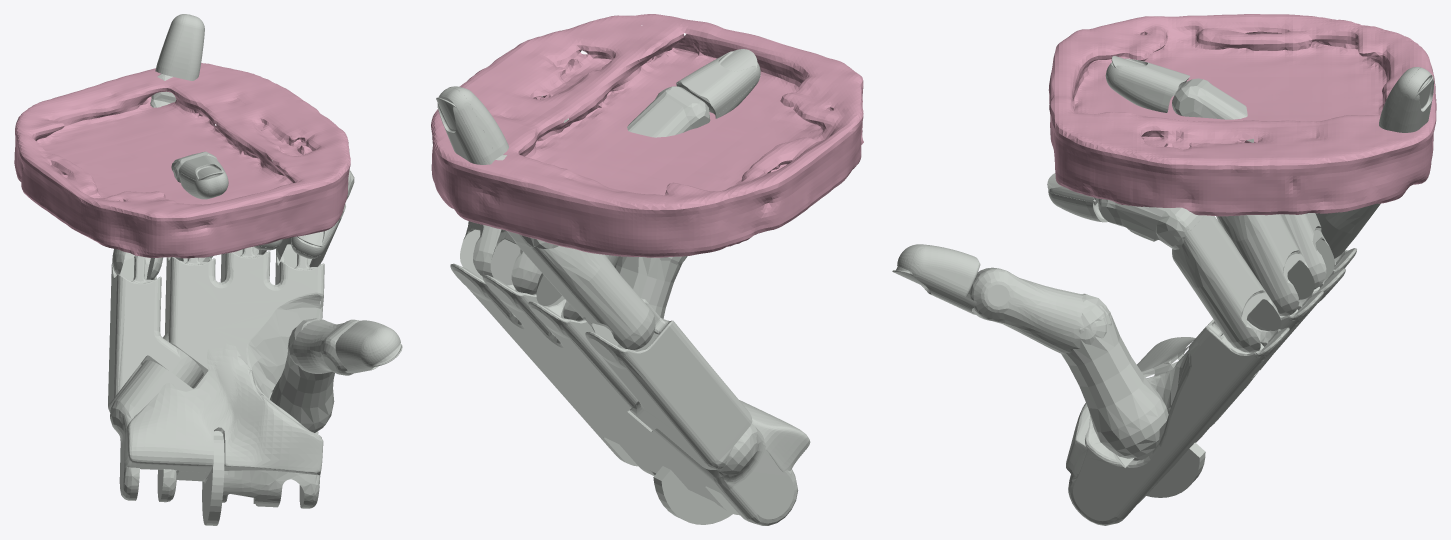
3 renders of one model, left to right at view 1: azimuth 30°, elevation 25°; view 2: azimuth 150°, elevation 25°; view 3: azimuth 270°, elevation 25°, orthographic. The views are drawn at different scales.
Visible parts, largest first — view 1: hand, world; view 2: world, hand; view 3: hand, world.
Part boxes in pixels (x1=…): hand: x1=108, y1=14, x2=402, y2=525; world: x1=14, y1=63, x2=350, y2=258; world: x1=431, y1=14, x2=863, y2=257; hand: x1=436, y1=49, x2=810, y2=525; hand: x1=892, y1=56, x2=1434, y2=525; world: x1=1048, y1=14, x2=1436, y2=216.
Bounding box in the file's own units: 0.1293 × 0.1782 × 0.1846.
